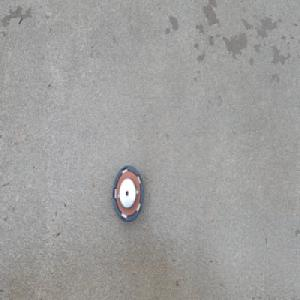FuelCap: (112, 163, 145, 224)
